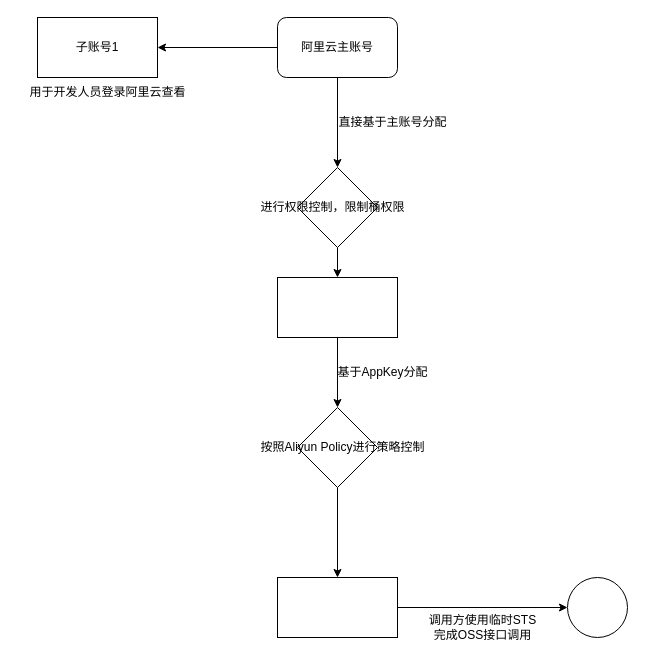
Image size: 645x665. Some labels were removed from this diagram. The box of each missing label's shape, as (x1, y1, x2, y2) in pixels:
AppKey与secret: (276, 276, 398, 338)
临时STS: (276, 576, 398, 638)
